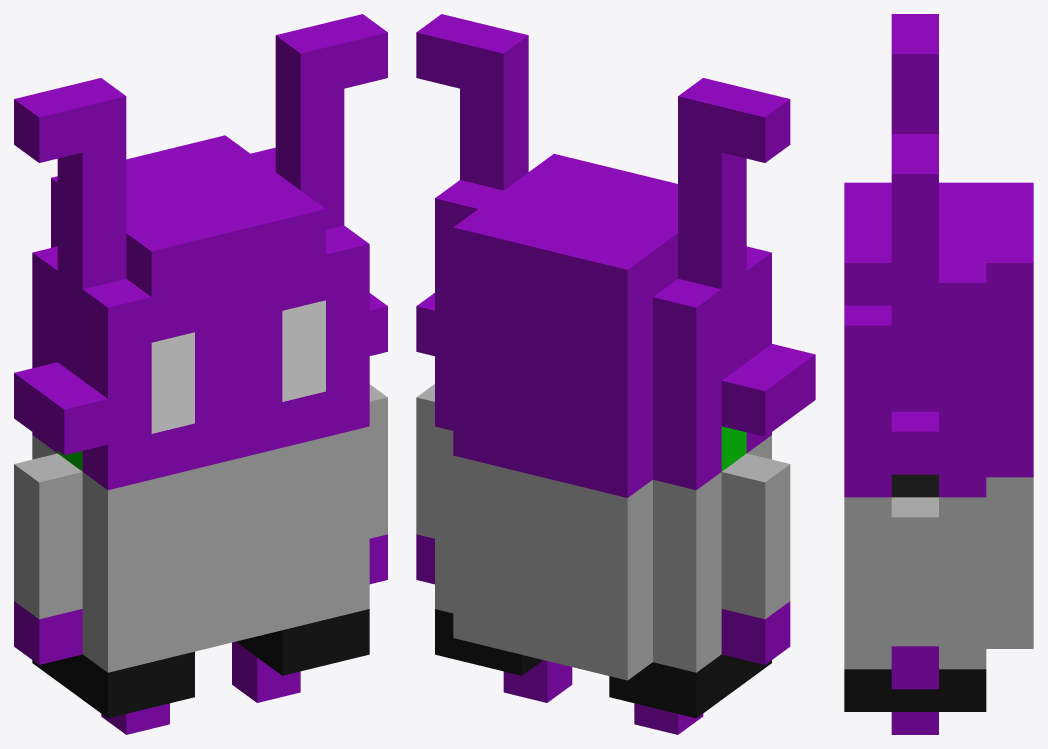
The model's file is Alien5.obj.
3 renders of one model, left to right at view 1: azimuth 30°, elevation 25°; view 2: azimuth 150°, elevation 25°; view 3: azimuth 270°, elevation 25°, orthographic. The views are drawn at different scales.
Size of the model in its own units: 8 by 14 by 4.
Materials: 1 (1 with a texture image).
